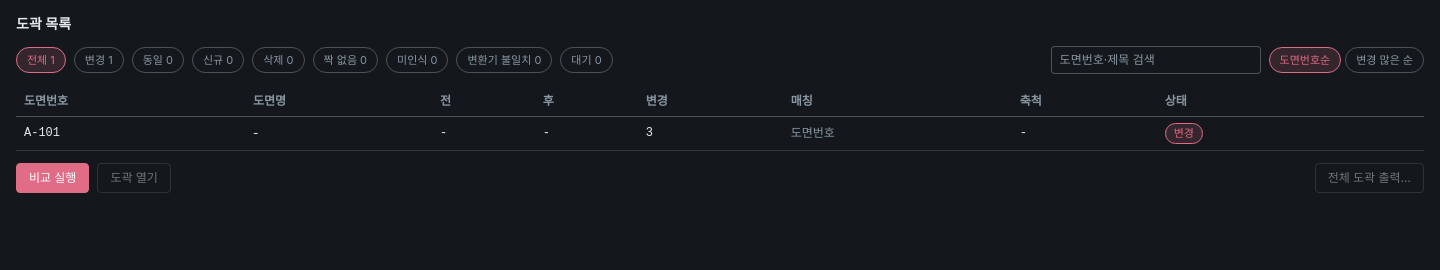
Test: SheetListScreen › 비교 실행 shows the "준비 중" toast when POST .../run 404s
This screenshot has width=1440, height=270.
Click the button "비교 실행" at x=53, y=178, box [16,162,89,192]
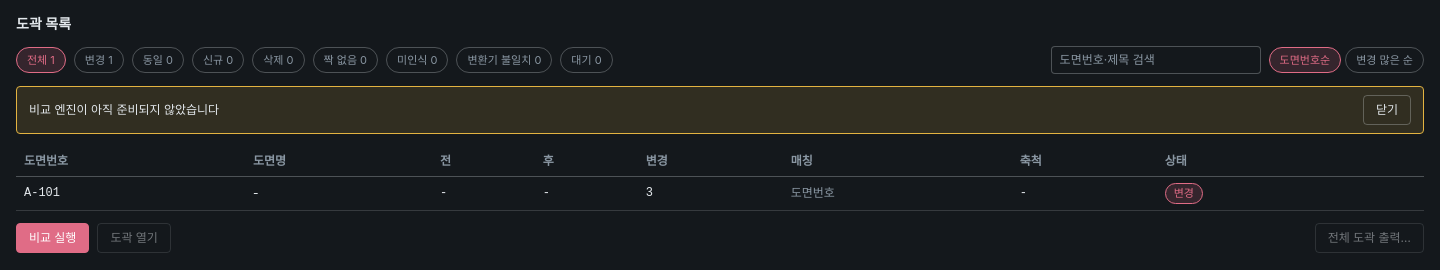
Expected: the text "비교 엔진이 아직 준비되지 않았습니다" is shown, [29,101,219,119]
